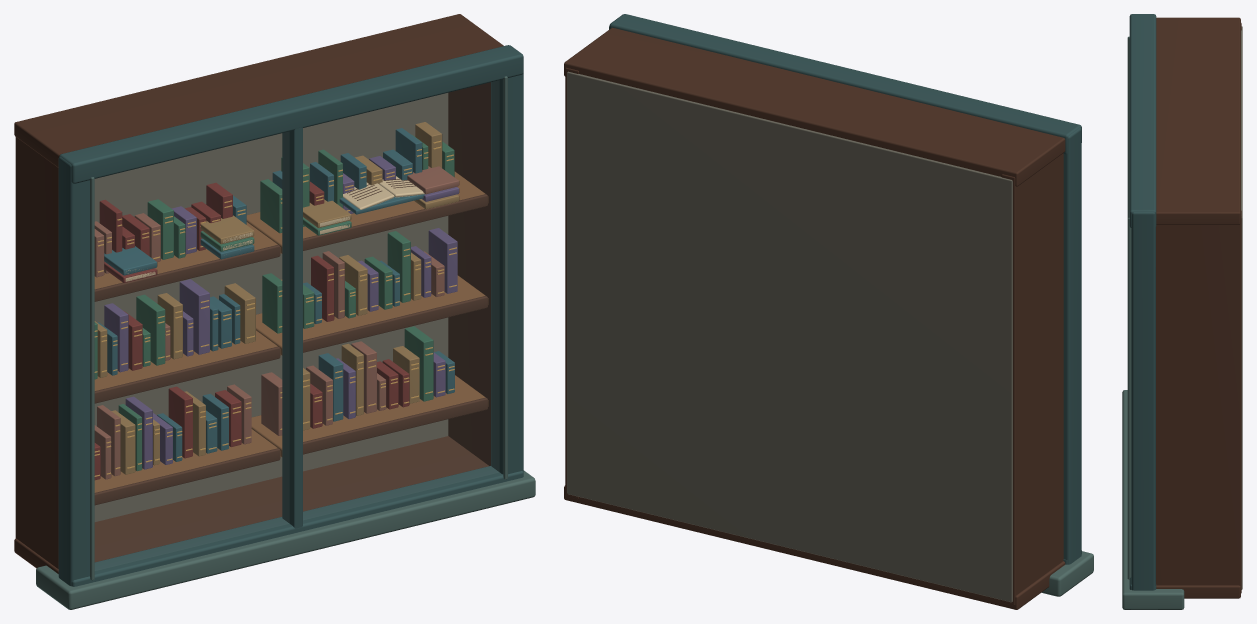
File: oldtown-bookshop-near.glb
3 renders of one model, left to right at view 1: azimuth 30°, elevation 25°; view 2: azimuth 150°, elevation 25°; view 3: azimuth 270°, elevation 25°, orthographic. The views are drawn at different scales.
Parts seen in each view (by area): view 1: Oldtown bookshop opaque; view 2: Oldtown bookshop opaque; view 3: Oldtown bookshop opaque.
Part boxes in pixels (x1,y1,x2,y2): Oldtown bookshop opaque: (14,14,535,609); Oldtown bookshop opaque: (564,14,1093,609); Oldtown bookshop opaque: (1122,14,1242,609).
Bounding box in the file's own units: 2.26 × 2.04 × 0.5625.
